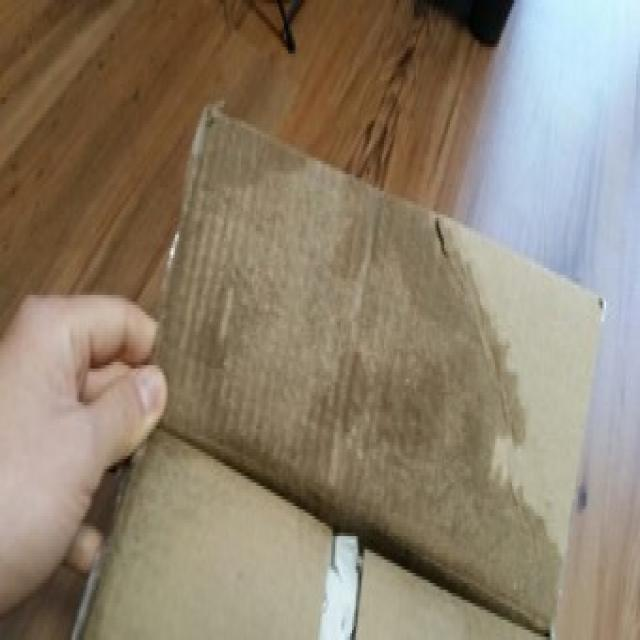wet: (165, 122, 583, 625)
